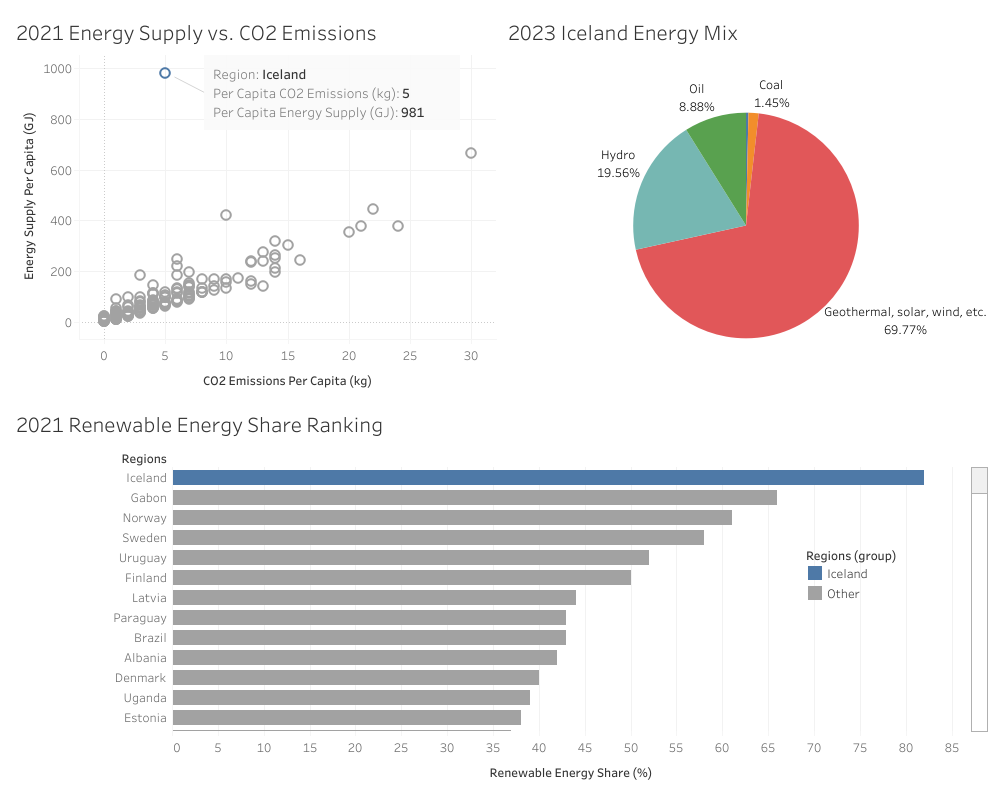

The dashboard page shown, as its layout file describes it:
{"tool":"tableau","page":{"name":"Dashboard 1","canvas":[1000,800],"ordinal":0},"visuals":[{"type":"worksheet","title":"2021 Energy Supply vs. CO2 Emissions","mark":"Automatic","rows":["GJ"],"cols":["co2Kg"],"box":[8,8,492,392]},{"type":"worksheet","title":"2023 Iceland Energy Mix","mark":"Pie","box":[500,8,492,392]},{"type":"worksheet","title":"2021 Renewable Energy Share Ranking","mark":"Automatic","rows":["Region (iso3_renewables.csv)"],"cols":["sharePercent"],"box":[8,400,984,392]},{"type":"legend","title":"2021 Renewable Energy Share Ranking","param":"[federated.1f4hhjr0oikg3r16ndxyz0yo7bis].[Regions (group)]","box":[805,544,152,59]}]}

Visuals, with their boxes in screenshot pixels (x1, y1, x2, y2), scaled from the page's 1000x800 canvas onto the 999x799 screenshot:
"2021 Energy Supply vs. CO2 Emissions" worksheet: [8,8,500,400]
"2023 Iceland Energy Mix" worksheet (Pie marks): [500,8,991,400]
"2021 Renewable Energy Share Ranking" worksheet: [8,400,991,791]
"2021 Renewable Energy Share Ranking" legend: [804,543,956,602]
